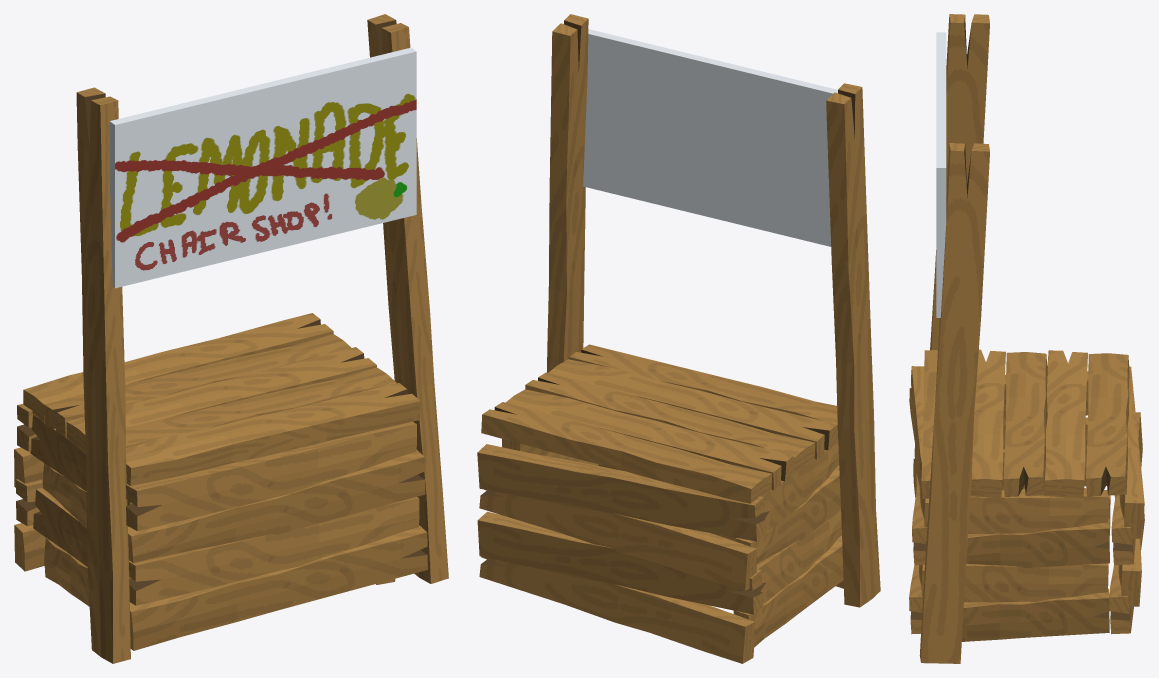
File: ShopStand.glb
3 views of the same model, side by side, from view 1: azimuth 30°, elevation 25°; view 2: azimuth 150°, elevation 25°; view 3: azimuth 270°, elevation 25° (orthographic). The views are drawn at different scales.
Visible parts, largest first — view 1: Cube.007; view 2: Cube.007; view 3: Cube.007.
Boxes of the visible parts, bbox=[...] form: Cube.007: bbox=[14, 14, 448, 663]; Cube.007: bbox=[477, 14, 880, 663]; Cube.007: bbox=[909, 14, 1144, 663].
Bounding box in the file's own units: 0.4538 × 0.7056 × 0.2977.
Materials: 2 (2 with a texture image).
